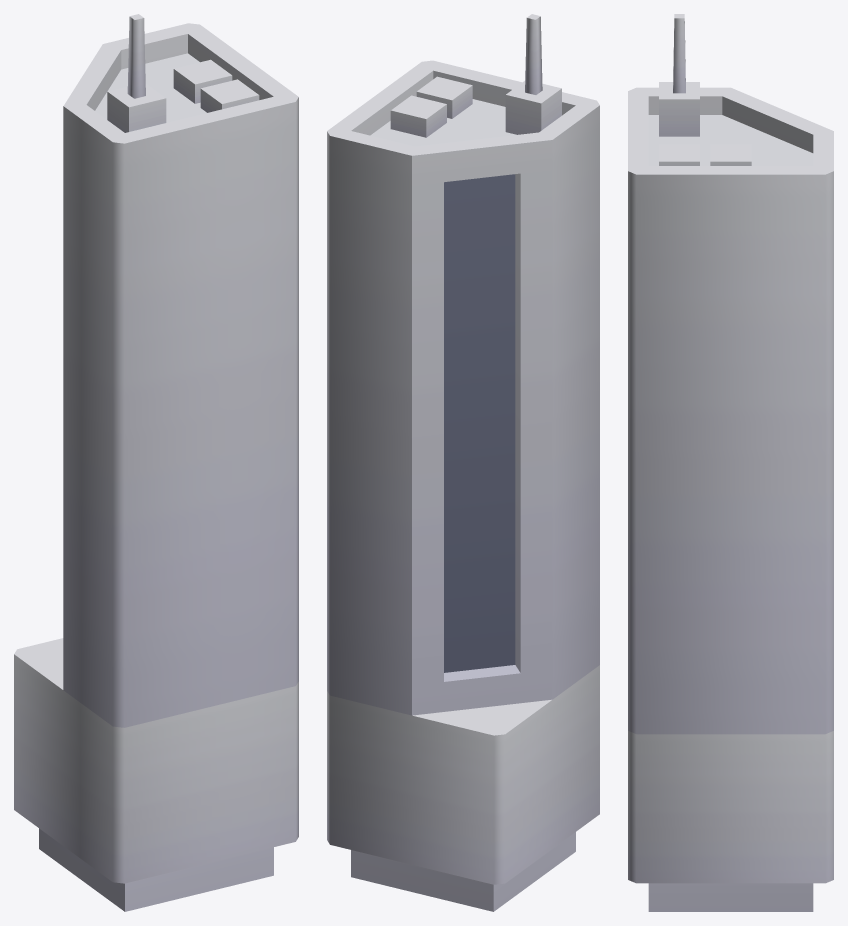
File: kenney-city-commercial-low-detail-building-c.glb
3 views of the same model, side by side, from view 1: azimuth 30°, elevation 25°; view 2: azimuth 150°, elevation 25°; view 3: azimuth 270°, elevation 25° (orthographic). The views are drawn at different scales.
Visible parts, largest first — view 1: low-detail-building-c; view 2: low-detail-building-c; view 3: low-detail-building-c.
Boxes of the visible parts, x1,y1,x2,y2 form: low-detail-building-c: (14,14,298,911); low-detail-building-c: (327,14,599,911); low-detail-building-c: (628,14,833,911).
Size of the model in its own units: 0.4999 by 2.25 by 0.4999.
Materials: 1 (1 with a texture image).
